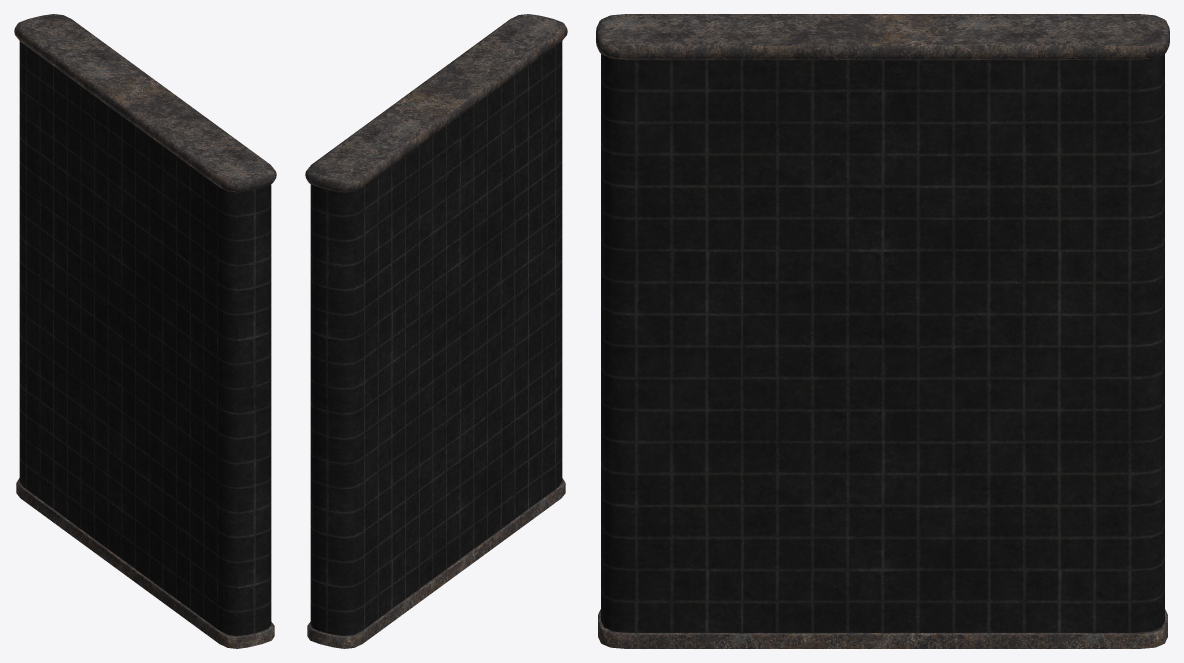
File: BathroomWall_WithoutTop.FBX
3 renders of one model, left to right at view 1: azimuth 30°, elevation 25°; view 2: azimuth 150°, elevation 25°; view 3: azimuth 270°, elevation 25°, orthographic. The views are drawn at different scales.
Parts seen in each view (by area): view 1: BathroomWall_WithoutTop; view 2: BathroomWall_WithoutTop; view 3: BathroomWall_WithoutTop.
Part boxes in pixels (left/top/right/bottom): BathroomWall_WithoutTop: left=14, top=14, right=276, bottom=648; BathroomWall_WithoutTop: left=305, top=14, right=567, bottom=648; BathroomWall_WithoutTop: left=596, top=14, right=1169, bottom=648.
Size of the model in its own units: 11.23 by 92.99 by 80.13.
